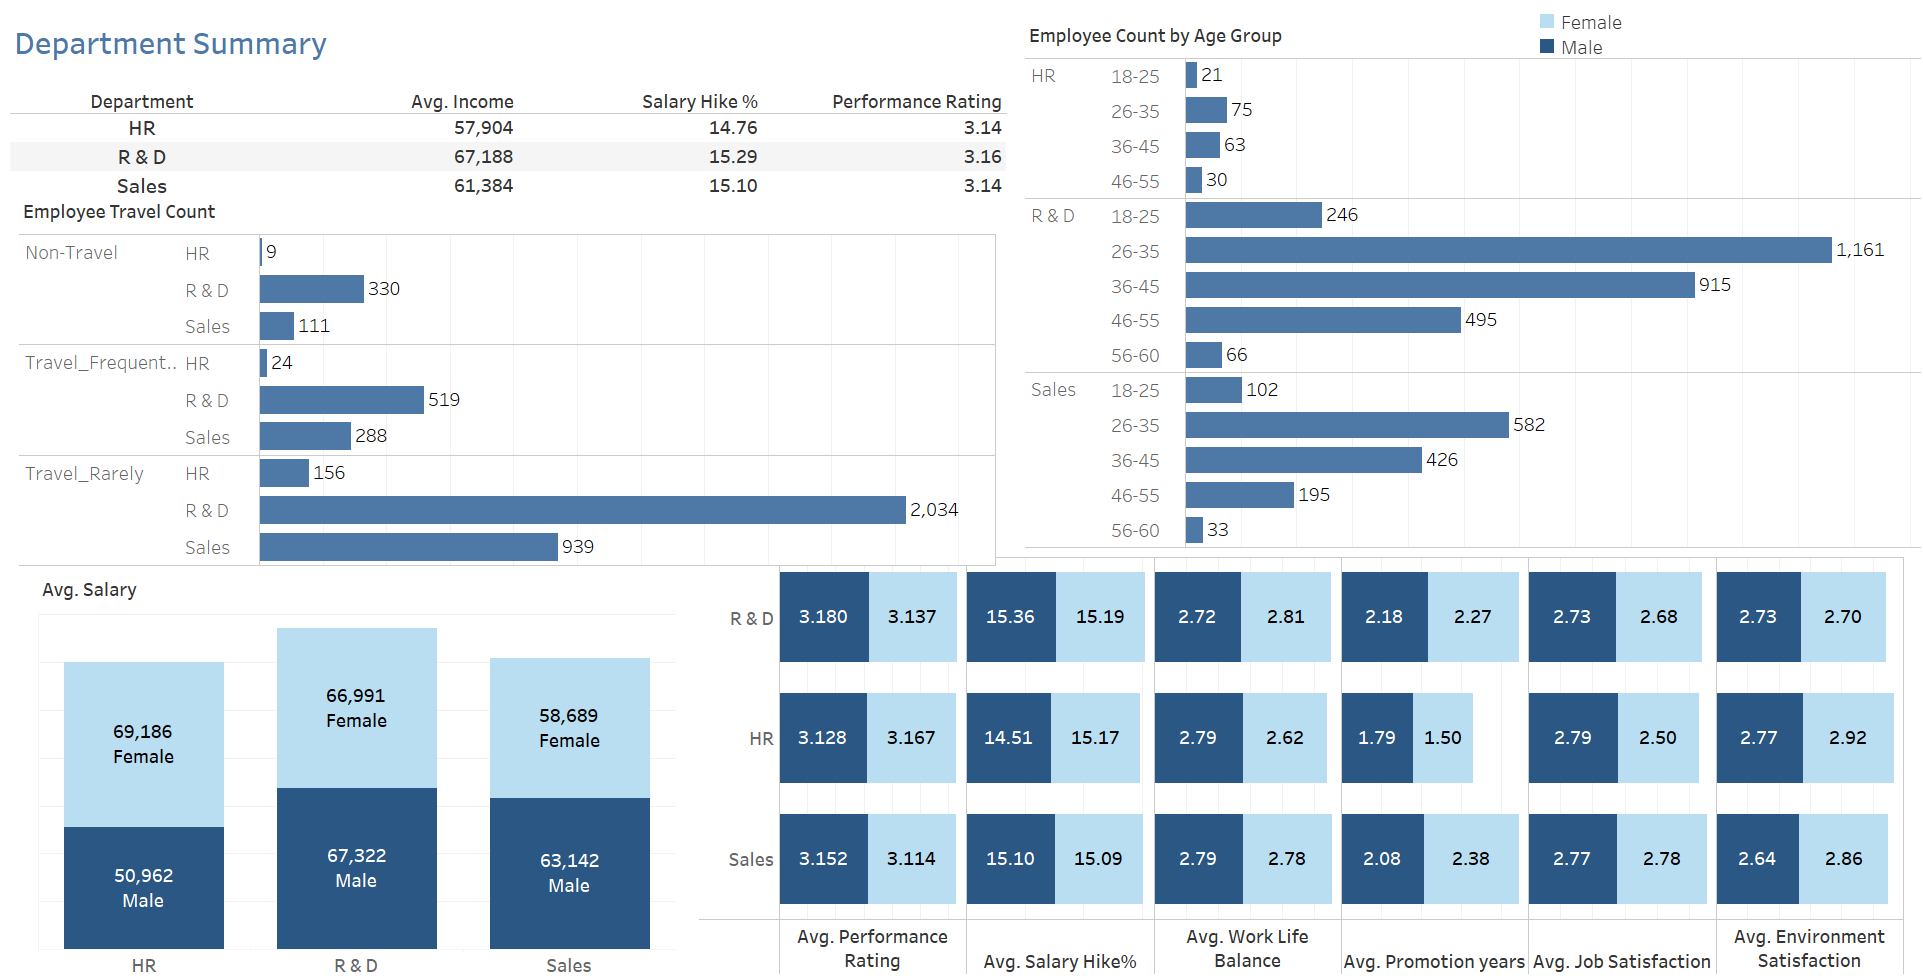

Layout of this report page (visuals, bound fields, positions):
{"tool":"tableau","page":{"name":"Department Dashboard","canvas":[1000,1000],"units":"permille","ordinal":1},"visuals":[{"type":"legend","title":"Perf,wlb,promo/Dept.","param":"[federated.0aancem1qxum5017pj3dp0znj50u].[none:Gender:nk]","box":[798.6,9.8,94.8,64.8]},{"type":"worksheet","title":"Department Summary","mark":"Automatic","rows":["Department"],"box":[4.4,18.3,519.3,188.3]},{"type":"worksheet","title":"Dept/age/gender/count","mark":"Automatic","rows":["Department","Calculation_1906711522301833217"],"cols":["EmployeeCount"],"box":[533,19.6,467.6,544]},{"type":"worksheet","title":"travel/Dept","mark":"Automatic","rows":["BusinessTravel","Department"],"cols":["EmployeeID"],"box":[8.7,200.5,508.7,381.4]},{"type":"worksheet","title":"Income/Gender/Dept","mark":"Automatic","rows":["MonthlyIncome"],"cols":["Department"],"box":[18.7,588,332.3,416.9]}]}

Visuals, with their boxes on the dashboard's canvas, which has no fixed pixel size, in thousandths of its width and height (x1, y1, x2, y2). These are canvas units, not pixel positions in the 1923x976 screenshot, which may show the page scaled, cropped or inside an application window:
"Perf,wlb,promo/Dept." legend: x1=799 y1=10 x2=893 y2=75
"Department Summary" worksheet: x1=4 y1=18 x2=524 y2=207
"Dept/age/gender/count" worksheet: x1=533 y1=20 x2=1001 y2=564
"travel/Dept" worksheet: x1=9 y1=200 x2=517 y2=582
"Income/Gender/Dept" worksheet: x1=19 y1=588 x2=351 y2=1005
